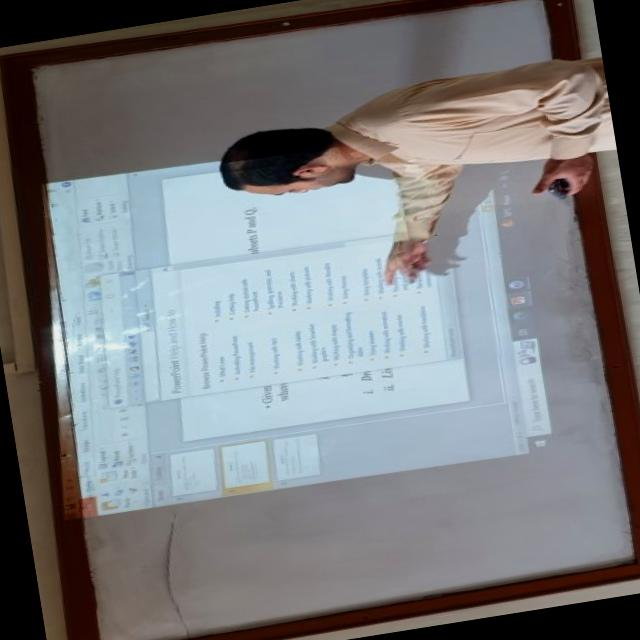Instructor: (192, 50, 619, 230)
Slide: (45, 116, 568, 521)
White-board: (18, 0, 640, 640)
